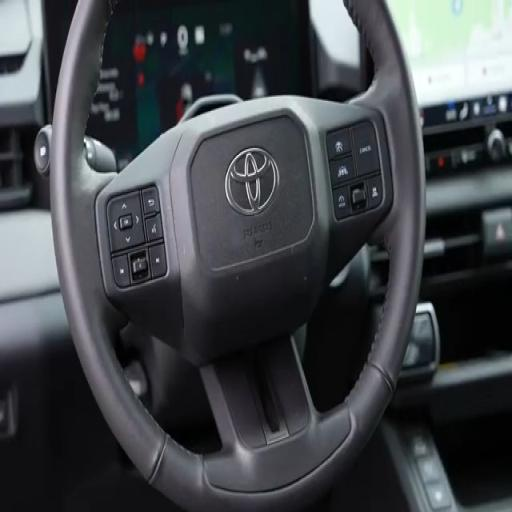emblem: (225, 148, 279, 216)
